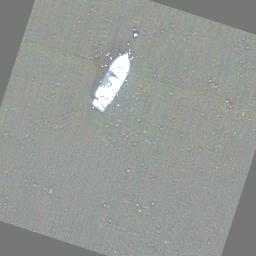boat: (88, 43, 136, 116)
